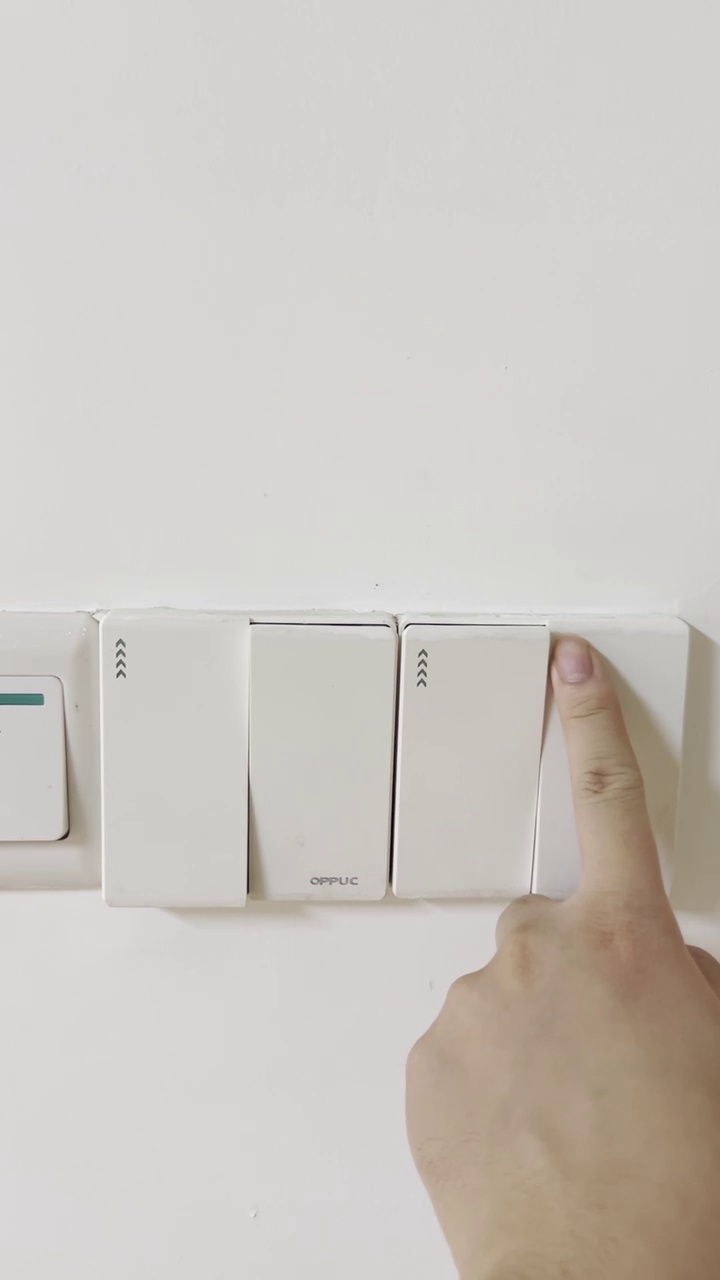button1: (540, 629, 682, 902), (398, 629, 538, 902), (255, 626, 388, 899), (109, 622, 240, 894)
